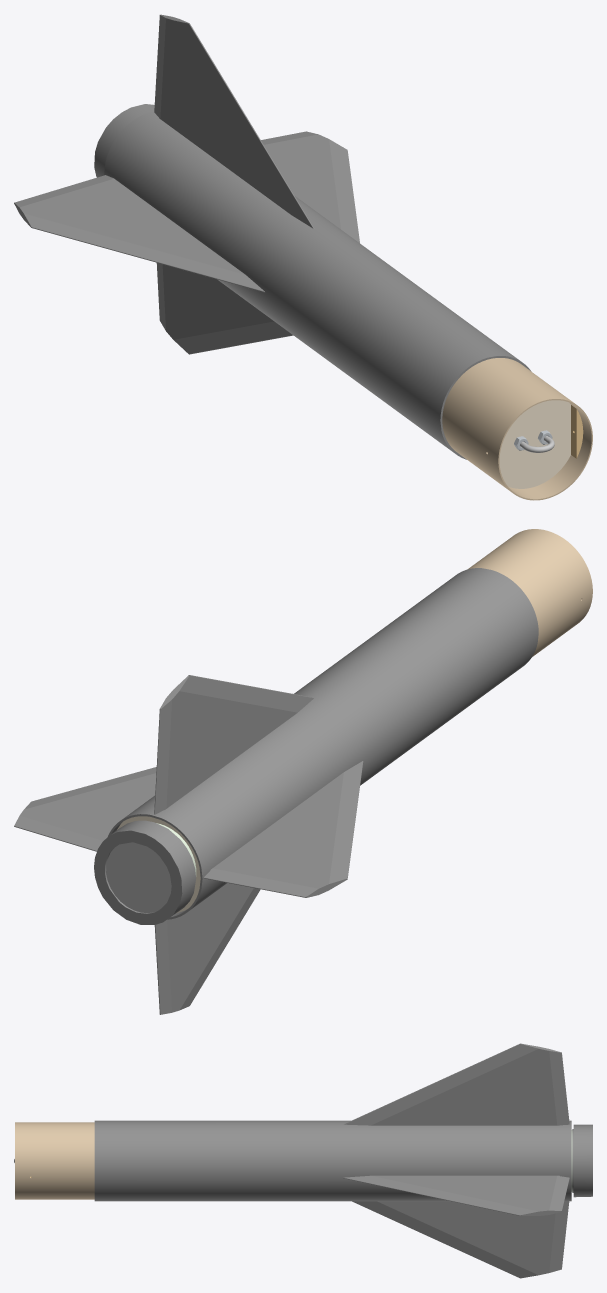
File: rocket_s3.glb
3 views of the same model, one above another, from view 1: azimuth 30°, elevation 25°; view 2: azimuth 150°, elevation 25°; view 3: azimuth 270°, elevation 25° (orthographic). The views are drawn at different scales.
Visible parts, largest first — view 1: object 1, Main Fin (×4), object 23; view 2: object 1, Main Fin (×4), object 23, object 8, Motor Bulkhead; view 3: object 1, Main Fin (×3), object 23.
Boxes of the visible parts, <box> form: object 1: <box>94,104,554,459</box>; Main Fin (×4): <box>14,14,359,353</box>; object 23: <box>442,358,592,500</box>; object 1: <box>94,568,538,924</box>; Main Fin (×4): <box>14,675,362,1014</box>; object 23: <box>467,529,592,656</box>; object 8: <box>106,823,196,912</box>; Motor Bulkhead: <box>117,816,200,913</box>; object 1: <box>14,1120,592,1201</box>; Main Fin (×3): <box>345,1043,569,1278</box>; object 23: <box>15,1122,94,1199</box>.
Size of the model in its own units: 0.3315 by 0.3315 by 0.7399.
